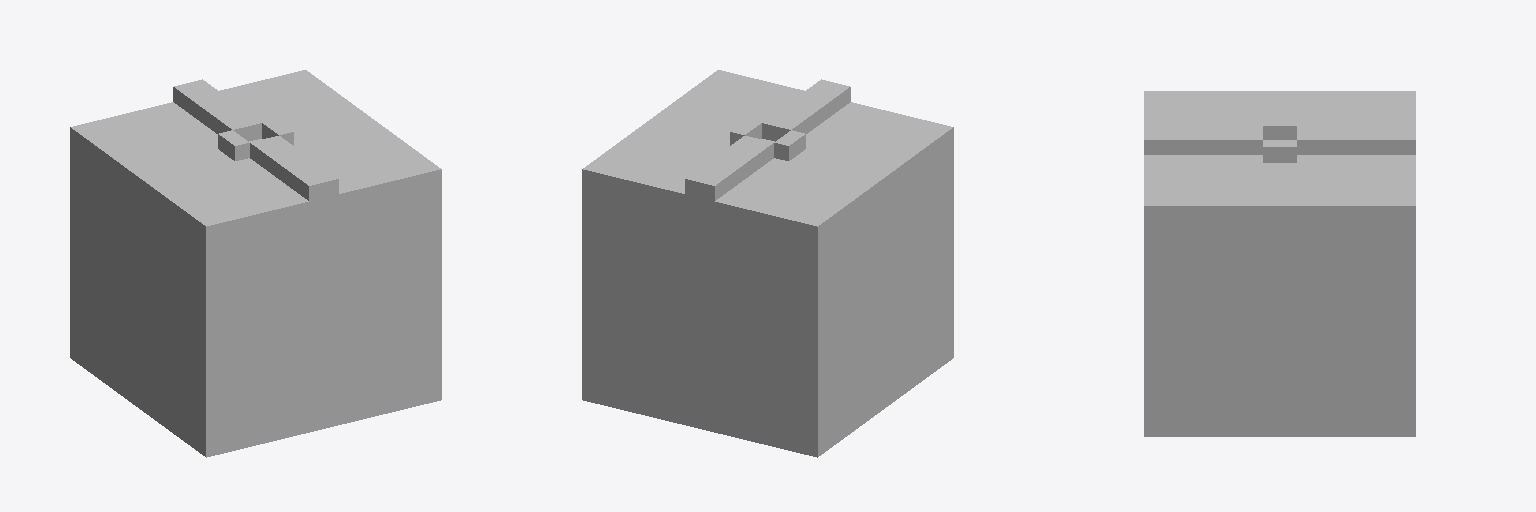
File: Floor Straight Connection.obj
3 renders of one model, left to right at view 1: azimuth 30°, elevation 25°; view 2: azimuth 150°, elevation 25°; view 3: azimuth 270°, elevation 25°, orthographic.
Parts seen in each view (by area): view 1: object 1; view 2: object 1; view 3: object 1.
Boxes of the visible parts, x1,y1,x2,y2 form: object 1: [70, 70, 441, 457]; object 1: [582, 70, 953, 457]; object 1: [1144, 91, 1415, 436].
Size of the model in its own units: 1.6 by 1.6 by 1.6.